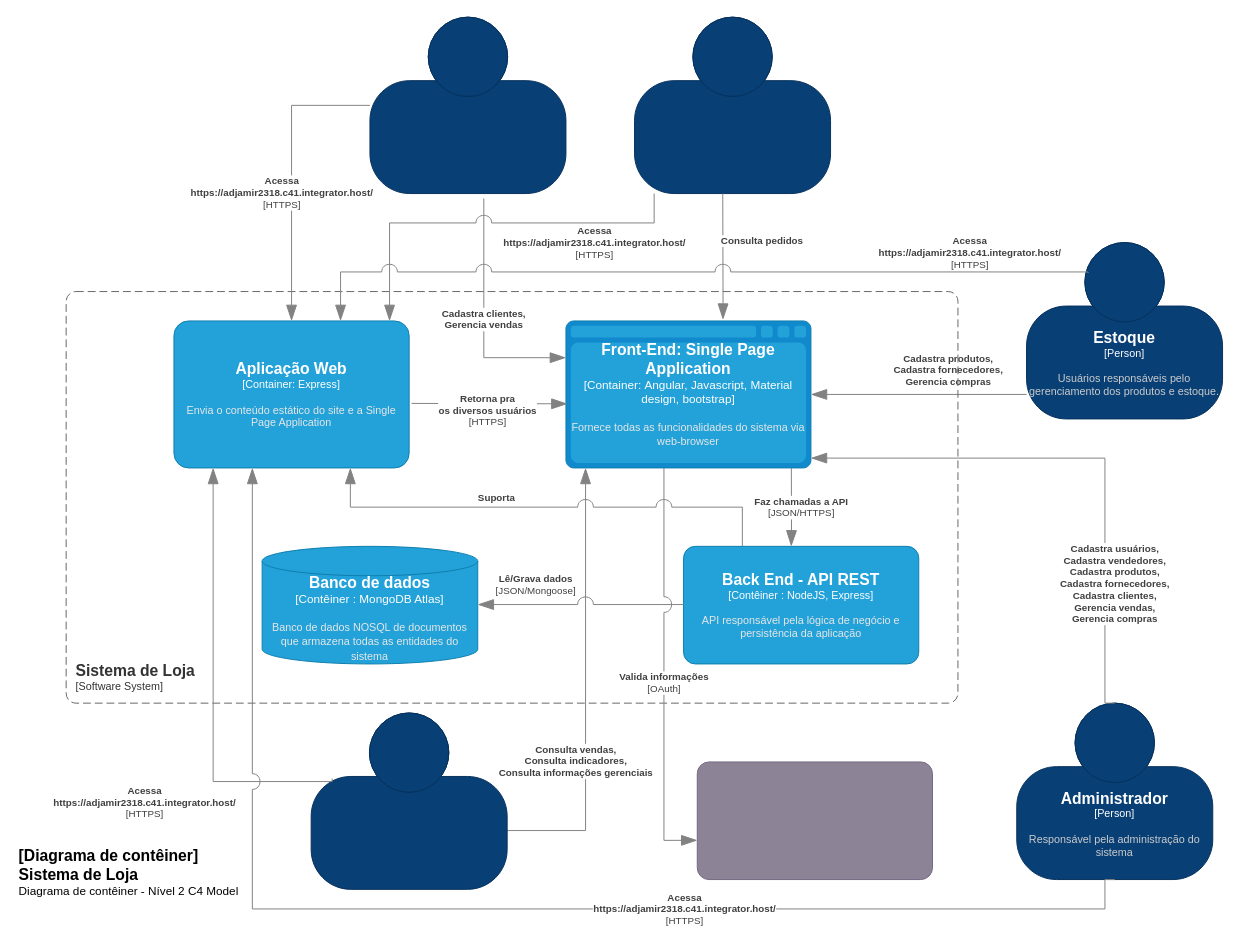
Some shapes in this 1240 by 944 pixel diagram are drawn without their labels. Here are the shapes that lost their labels. From the top down, the centre of each, then its label:
the point at 467,105: Vendedor [Person] Vendedores, inclusive o caixa da loja.
the point at 732,105: Cliente [Person] Clientes identificados da loja
the point at 408,800: Gestor [Person] Gestor do sistema que recebe informações estratégicas do negócio
the point at 814,820: Google Sign-in [Software System] Sistema de login social do Google
